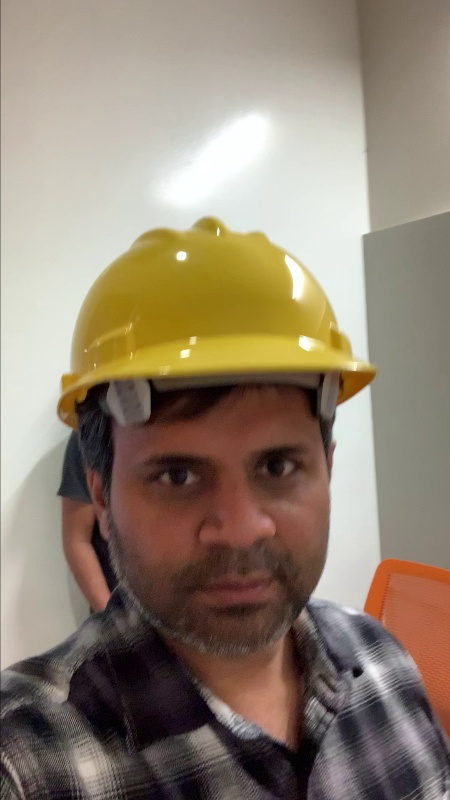helmet: (54, 207, 387, 408)
